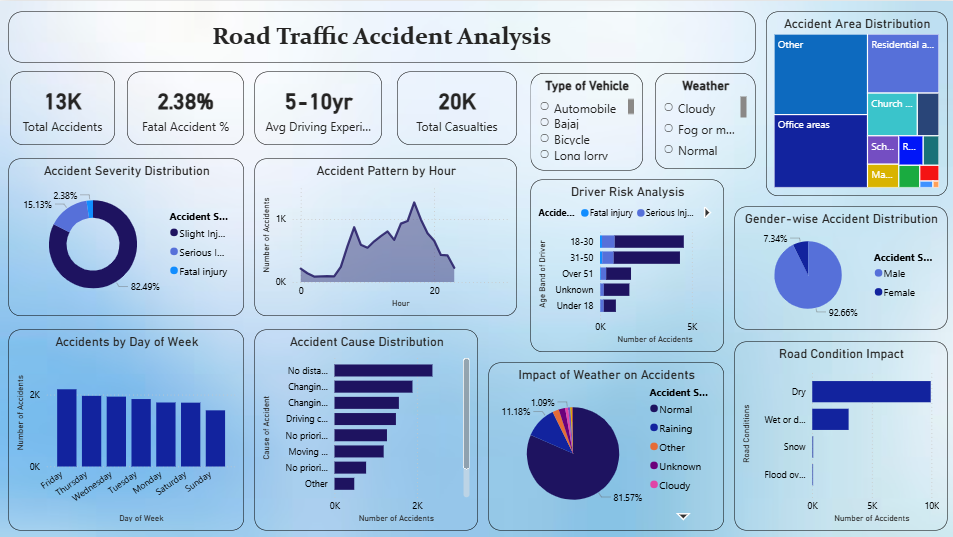

The page's visual inventory and layout, read from the dashboard file:
{"tool":"powerbi","page":{"name":"Page 1","canvas":[1280,720],"ordinal":0},"visuals":[{"type":"donutChart","title":"Accident Severity Distribution","fields":{"Category":["Addis_Ababa_city_RTA.Accident_severity"],"Y":["Addis_Ababa_city_RTA.Count_of_accidents"]},"box":[14,210,314,210],"z":0},{"type":"lineChart","title":"Accident Pattern by Hour","fields":{"Y":["Addis_Ababa_city_RTA.Count_of_accidents"],"Category":["Addis_Ababa_city_RTA.Hour"]},"box":[342,210,350,210],"z":1000},{"type":"columnChart","title":"Accidents by Day of Week","fields":{"Category":["Addis_Ababa_city_RTA.Day_of_week"],"Y":["Addis_Ababa_city_RTA.Count_of_accidents"]},"box":[14,438,314,268],"z":2000},{"type":"barChart","title":"Accident Cause Distribution","fields":{"Y":["Addis_Ababa_city_RTA.Count_of_accidents"],"Category":["Addis_Ababa_city_RTA.Cause_of_accident"]},"box":[342,438,298,268],"z":3000},{"type":"pieChart","title":"Impact of Weather on Accidents","fields":{"Category":["Addis_Ababa_city_RTA.Weather_conditions"],"Y":["Addis_Ababa_city_RTA.Count_of_accidents"]},"box":[654,482,314,224],"z":4000},{"type":"barChart","title":"Driver Risk Analysis","fields":{"Y":["Addis_Ababa_city_RTA.Count_of_accidents"],"Category":["Addis_Ababa_city_RTA.Age_band_of_driver"],"Series":["Addis_Ababa_city_RTA.Accident_severity"]},"box":[710,238,258,230],"z":5000},{"type":"pieChart","title":"Gender-wise Accident Distribution","fields":{"Y":["Addis_Ababa_city_RTA.Count_of_accidents"],"Category":["Addis_Ababa_city_RTA.Drivers_gender"]},"box":[982,274,284,164],"z":6000},{"type":"barChart","title":"Road Condition Impact","fields":{"Category":["Addis_Ababa_city_RTA.Road_surface_conditions"],"Y":["Addis_Ababa_city_RTA.Count_of_accidents"]},"box":[982,454,284,252],"z":7000},{"type":"treemap","title":"Accident Area Distribution","fields":{"Values":["Addis_Ababa_city_RTA.Count_of_accidents"],"Group":["Addis_Ababa_city_RTA.Area_accident_occured"]},"box":[1024,14,242,246],"z":8000},{"type":"textbox","box":[14,14,996,68],"z":9000},{"type":"card","fields":{"Values":["Addis_Ababa_city_RTA.Count_of_accidents"]},"box":[16,94,140,98],"z":10000},{"type":"card","fields":{"Values":["Addis_Ababa_city_RTA.Fatal Accident %"]},"box":[172,94,156,98],"z":11000},{"type":"card","fields":{"Values":["Addis_Ababa_city_RTA.Most Common Driving Experience"]},"box":[342,94,170,98],"z":12000},{"type":"listSlicer","fields":{"Values":["Addis_Ababa_city_RTA.Type_of_vehicle"]},"box":[710,96,150,130],"z":13000},{"type":"listSlicer","fields":{"Values":["Addis_Ababa_city_RTA.Weather_conditions"]},"box":[876,96,134,128],"z":13001},{"type":"card","fields":{"Values":["Sum(Addis_Ababa_city_RTA.Number_of_casualties)"]},"box":[532,94,160,98],"z":13002}]}

Visuals, with their boxes in screenshot pixels (x1, y1, x2, y2), scaled from the page's 1280x720 canvas onto the 953x537 screenshot:
"Accident Severity Distribution" donutChart: 10, 157, 244, 313
"Accident Pattern by Hour" lineChart: 255, 157, 515, 313
"Accidents by Day of Week" columnChart: 10, 327, 244, 527
"Accident Cause Distribution" barChart: 255, 327, 476, 527
"Impact of Weather on Accidents" pieChart: 487, 359, 721, 527
"Driver Risk Analysis" barChart: 529, 178, 721, 349
"Gender-wise Accident Distribution" pieChart: 731, 204, 943, 327
"Road Condition Impact" barChart: 731, 339, 943, 527
"Accident Area Distribution" treemap: 762, 10, 943, 194
textbox: 10, 10, 752, 61
card - Addis_Ababa_city_RTA.Count_of_accidents: 12, 70, 116, 143
card - Addis_Ababa_city_RTA.Fatal Accident %: 128, 70, 244, 143
card - Addis_Ababa_city_RTA.Most Common Driving Experience: 255, 70, 381, 143
listSlicer - Addis_Ababa_city_RTA.Type_of_vehicle: 529, 72, 640, 169
listSlicer - Addis_Ababa_city_RTA.Weather_conditions: 652, 72, 752, 167
card - Sum(Addis_Ababa_city_RTA.Number_of_casualties): 396, 70, 515, 143
